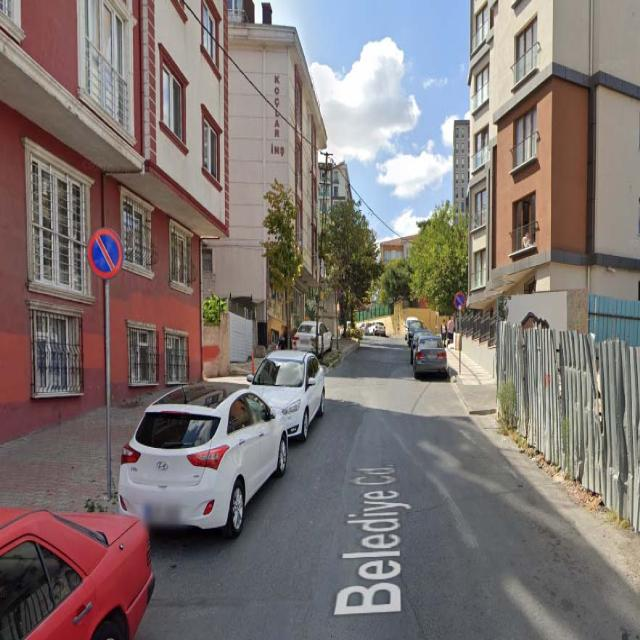parkyasak: (88, 228, 122, 278), (454, 291, 465, 311)
